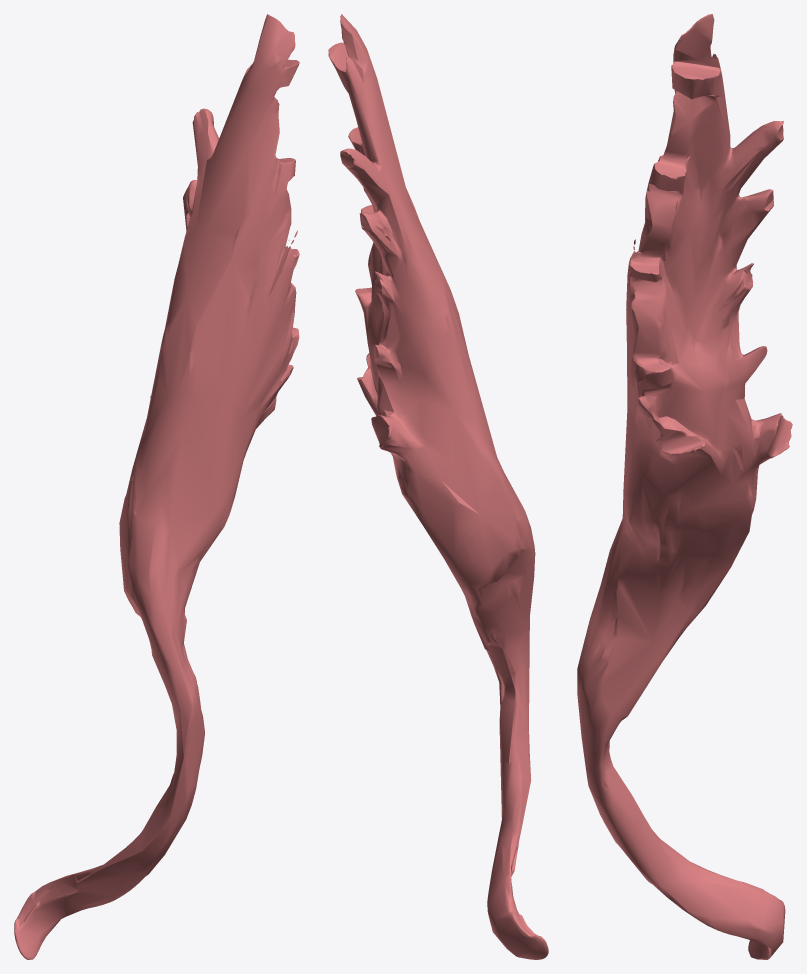
3 renders of one model, left to right at view 1: azimuth 30°, elevation 25°; view 2: azimuth 150°, elevation 25°; view 3: azimuth 270°, elevation 25°, orthographic. The views are drawn at different scales.
Visible parts, largest first — view 1: FJ1431; view 2: FJ1431; view 3: FJ1431.
Part boxes in pixels (box(x1,y1,x2,y2)): FJ1431: box(14, 14, 299, 959); FJ1431: box(328, 14, 548, 959); FJ1431: box(577, 14, 792, 959).
Size of the model in its own units: 0.1057 by 0.3616 by 0.0661.
